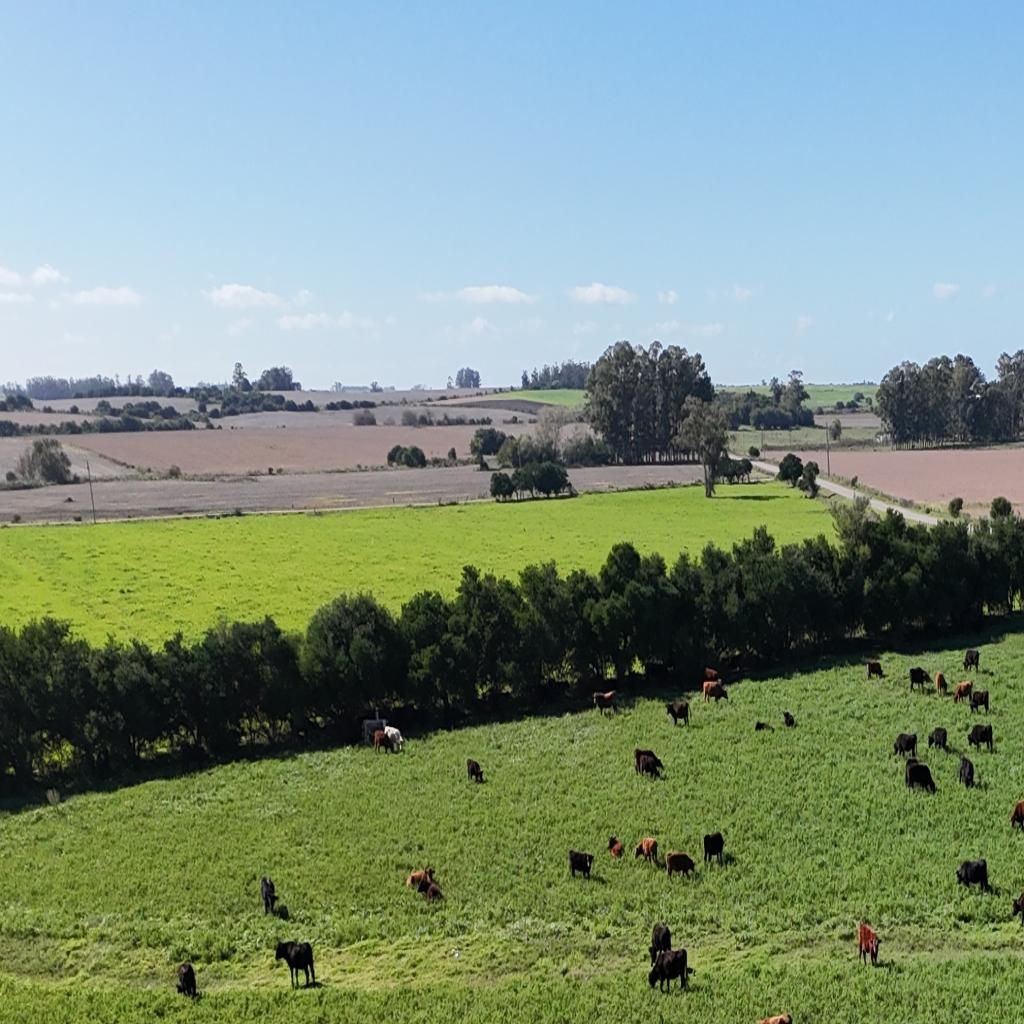cow: (274, 940, 316, 989), (648, 947, 688, 994), (956, 858, 990, 894), (905, 758, 936, 794), (648, 922, 672, 966), (857, 922, 881, 966), (666, 851, 696, 881), (636, 747, 664, 779), (967, 723, 993, 753), (703, 831, 725, 866), (569, 850, 594, 880), (634, 837, 658, 867), (893, 732, 918, 760), (176, 962, 196, 997), (666, 700, 690, 728), (593, 690, 617, 718), (406, 867, 435, 890), (702, 682, 729, 706), (260, 877, 277, 915), (909, 667, 931, 694), (384, 725, 404, 754), (958, 755, 974, 789), (969, 689, 989, 714), (953, 681, 973, 706), (928, 727, 948, 751), (374, 730, 394, 754), (467, 758, 484, 784), (963, 649, 981, 673), (755, 1013, 793, 1024), (608, 836, 624, 860), (866, 660, 884, 681), (424, 883, 442, 904), (935, 672, 948, 697), (1016, 888, 1024, 928), (1015, 799, 1024, 833), (633, 750, 645, 774), (704, 668, 721, 683), (754, 720, 774, 732), (782, 710, 795, 728), (278, 904, 289, 920)
